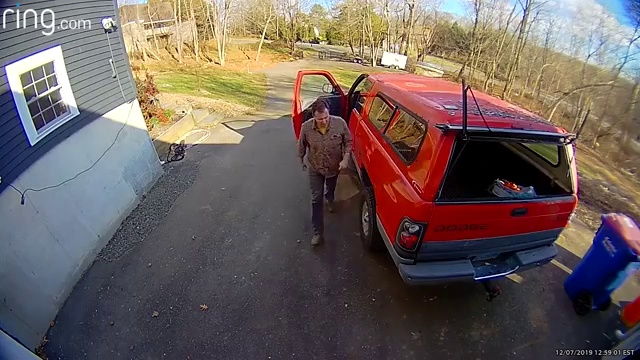face: (313, 110, 331, 129)
